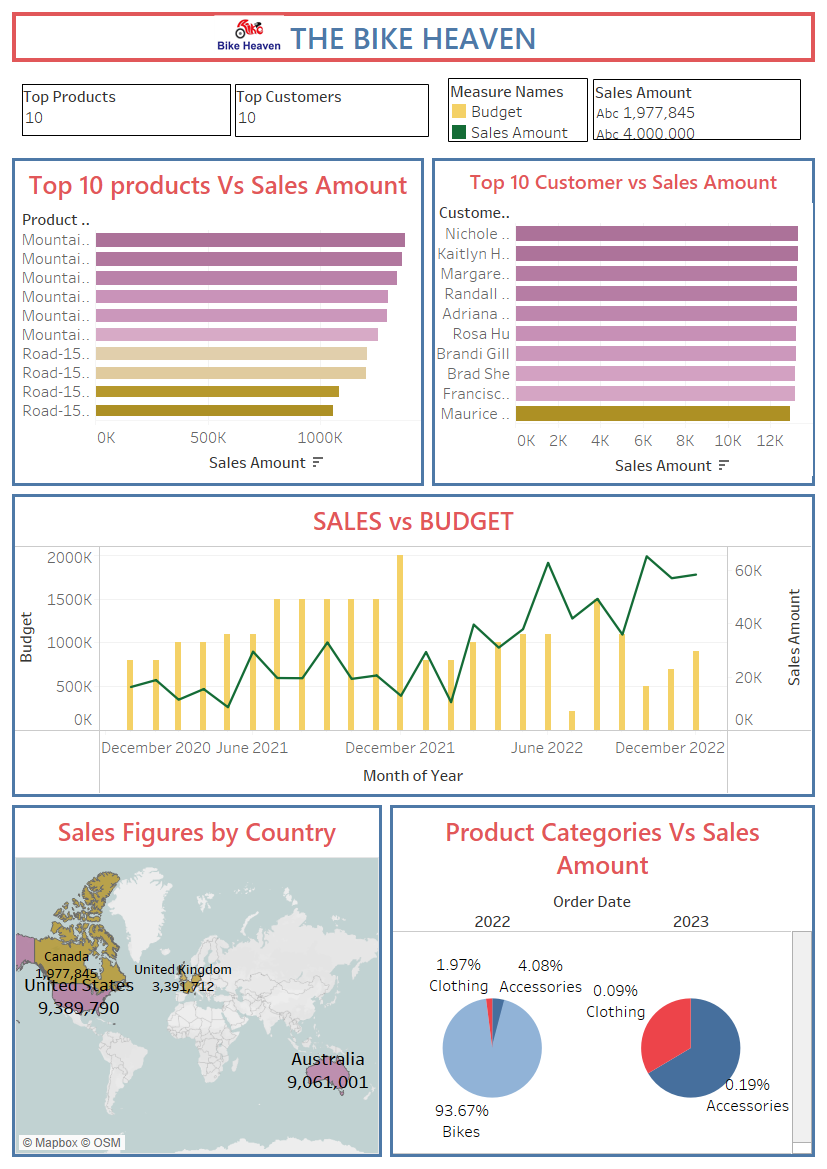

The page's visual inventory and layout, read from the dashboard file:
{"tool":"tableau","page":{"name":"Dashboard 1","canvas":[827,1169],"ordinal":0},"visuals":[{"type":"text","box":[8,8,811,58]},{"type":"image","param":"C:/Users/DELL/Downloads/images.jpg","box":[211,15,76,40]},{"type":"legend","title":"Sales Vs Budget","param":"[federated.1u4trno0t0c7ac1d54wys02jhkjd].[:Measure Names]","box":[448,78,140,64]},{"type":"legend","title":"Sales by Country","param":"[federated.1u4trno0t0c7ac1d54wys02jhkjd].[sum:sales_amount:qk]","box":[593,79,208,61]},{"type":"parameter","param":"[Parameters].[Parameter 1]","box":[22,84,209,52]},{"type":"parameter","param":"[Parameters].[Parameter 2]","box":[235,84,194,53]},{"type":"worksheet","title":"Top 10 product","mark":"Automatic","rows":["product_name"],"cols":["sales_amount"],"box":[8,154,420,336]},{"type":"worksheet","title":"Top 10 Customers","mark":"Automatic","rows":["customer_name"],"cols":["sales_amount"],"box":[428,154,391,336]},{"type":"worksheet","title":"Sales Vs Budget","mark":"Automatic","rows":["budget","sales_amount"],"cols":["year"],"box":[8,490,811,311]},{"type":"worksheet","title":"Sales by Country","mark":"Multipolygon","box":[8,801,378,360]},{"type":"worksheet","title":"Product Category Vs Sales Amount","mark":"Pie","cols":["order_date"],"box":[386,801,433,360]}]}

Visuals, with their boxes in screenshot pixels (x1, y1, x2, y2), scaled from the page's 827x1169 canvas onto the 827x1169 screenshot:
text: [left=8, top=8, right=819, bottom=66]
image: [left=211, top=15, right=287, bottom=55]
"Sales Vs Budget" legend: [left=448, top=78, right=588, bottom=142]
"Sales by Country" legend: [left=593, top=79, right=801, bottom=140]
parameter: [left=22, top=84, right=231, bottom=136]
parameter: [left=235, top=84, right=429, bottom=137]
"Top 10 product" worksheet: [left=8, top=154, right=428, bottom=490]
"Top 10 Customers" worksheet: [left=428, top=154, right=819, bottom=490]
"Sales Vs Budget" worksheet: [left=8, top=490, right=819, bottom=801]
"Sales by Country" worksheet (Multipolygon marks): [left=8, top=801, right=386, bottom=1161]
"Product Category Vs Sales Amount" worksheet (Pie marks): [left=386, top=801, right=819, bottom=1161]
